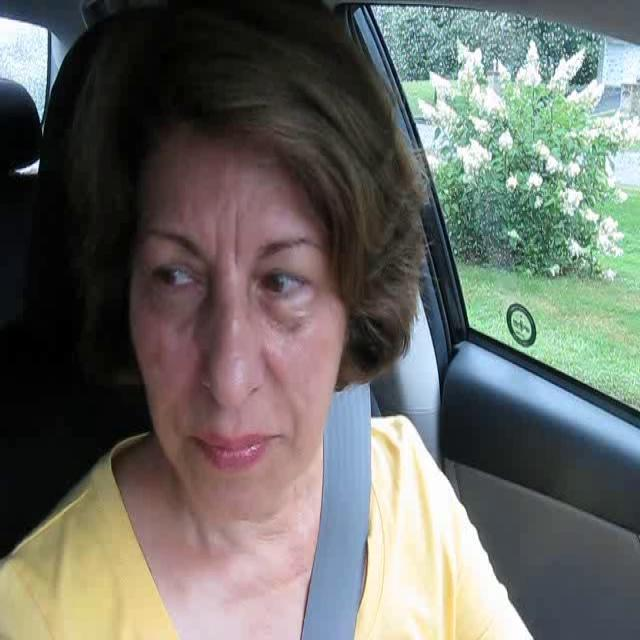close: (190, 427, 283, 472)
